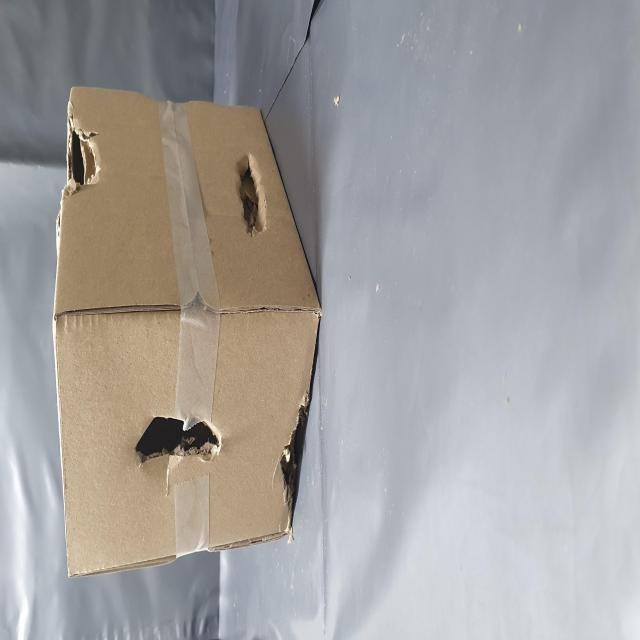damaged: (92, 237, 131, 393), (63, 486, 136, 548), (243, 103, 290, 178), (227, 418, 277, 470)
